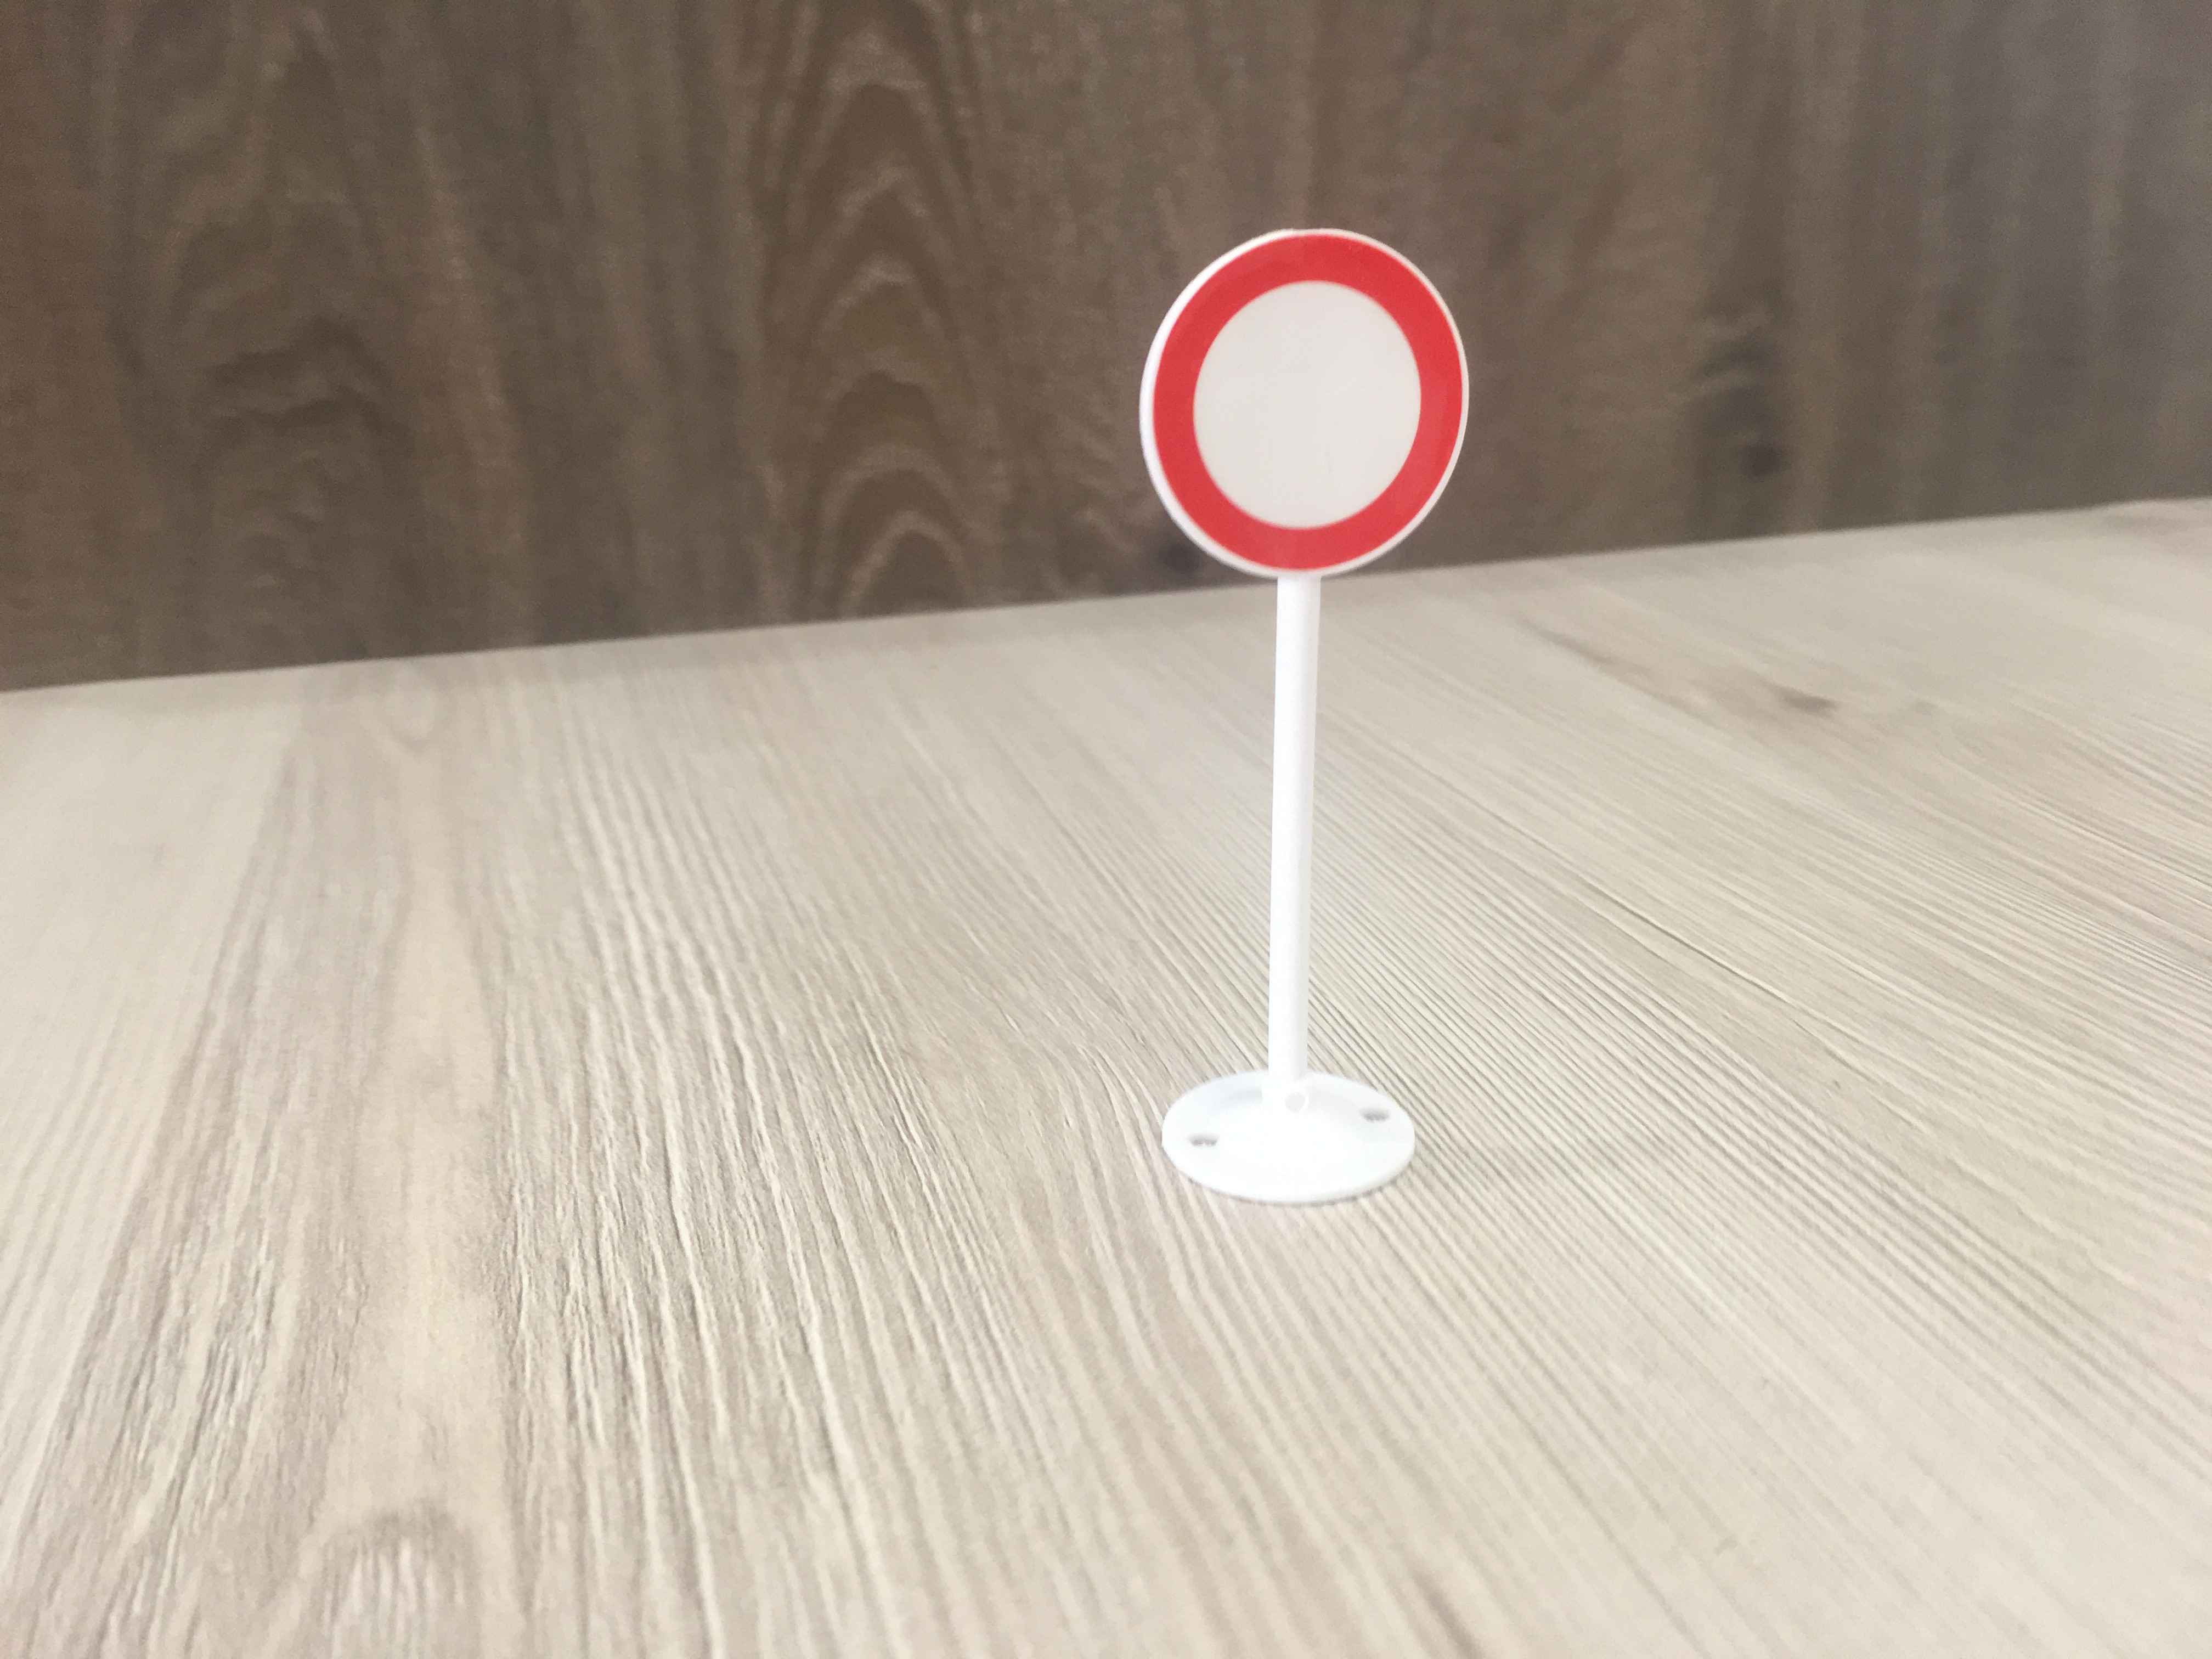noDrive: (1137, 228, 1475, 591)
